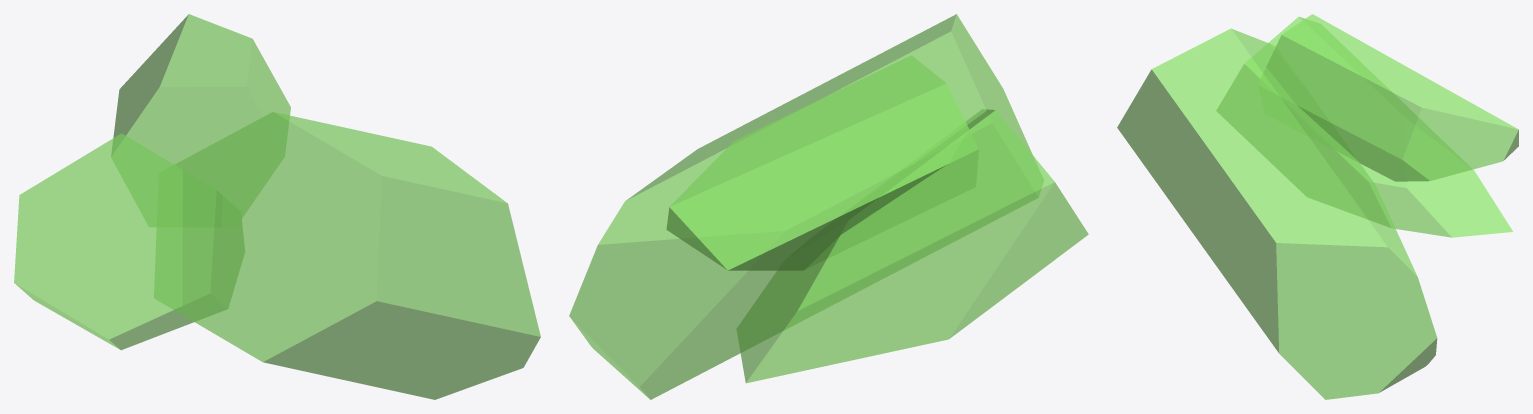
File: crystal_left_bottom.gltf
3 renders of one model, left to right at view 1: azimuth 30°, elevation 25°; view 2: azimuth 150°, elevation 25°; view 3: azimuth 270°, elevation 25°, orthographic. The views are drawn at different scales.
Parts seen in each view (by area): view 1: Cylinder.018, Cylinder.019, Cylinder.020; view 2: Cylinder.018, Cylinder.019, Cylinder.020; view 3: Cylinder.018, Cylinder.019, Cylinder.020.
Boxes of the visible parts, left/top/right/bottom form: Cylinder.018: left=154, top=112, right=540, bottom=399; Cylinder.019: left=14, top=133, right=244, bottom=350; Cylinder.020: left=111, top=14, right=290, bottom=226; Cylinder.018: left=569, top=14, right=1043, bottom=399; Cylinder.019: left=736, top=109, right=1088, bottom=383; Cylinder.020: left=666, top=55, right=978, bottom=270; Cylinder.018: left=1117, top=28, right=1437, bottom=399; Cylinder.019: left=1216, top=16, right=1512, bottom=237; Cylinder.020: left=1258, top=14, right=1518, bottom=181.
Bounding box in the file's own units: 1.76 × 1.27 × 1.68.
